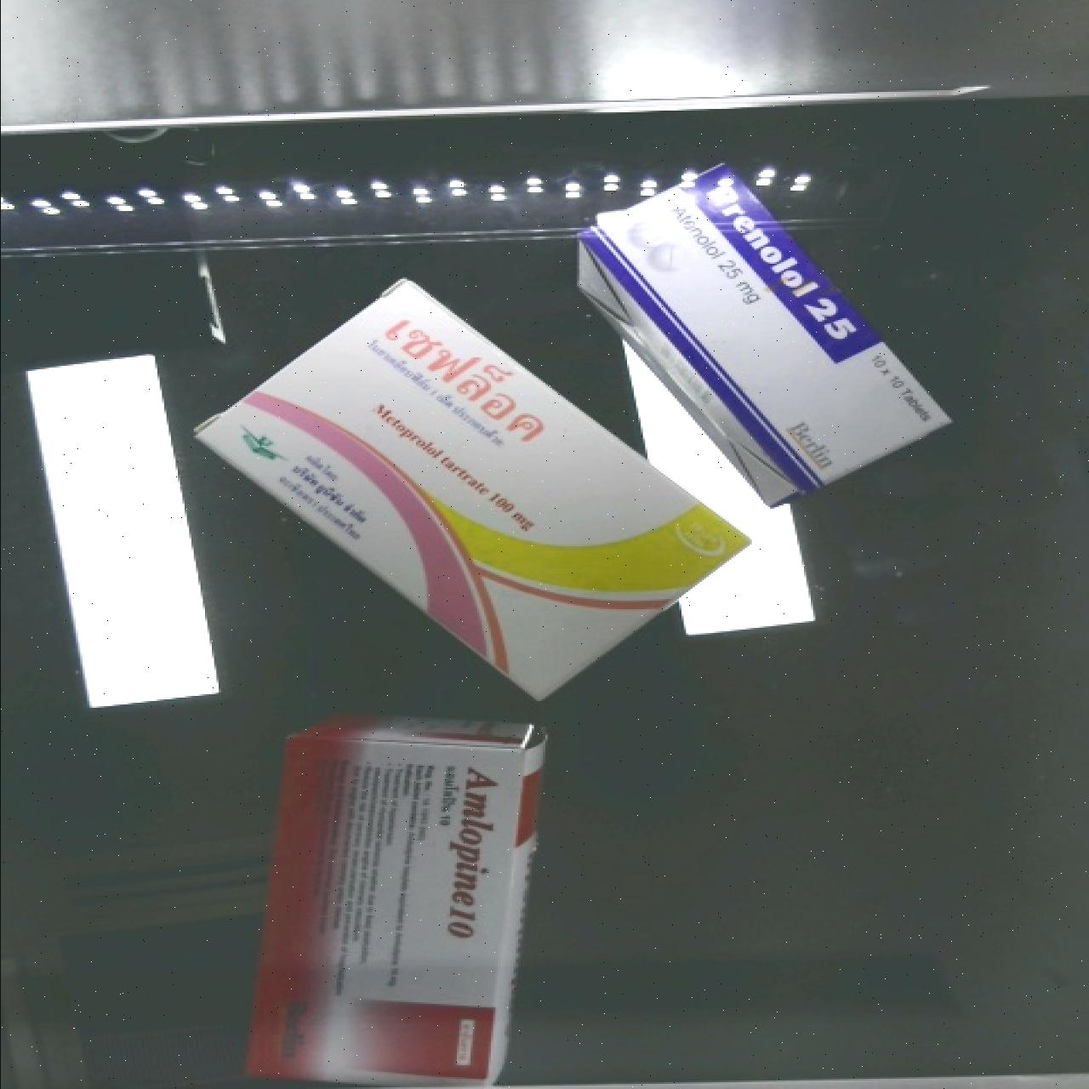medicine_label_obb: (355, 273, 580, 476), (681, 162, 875, 367), (420, 741, 515, 957)
